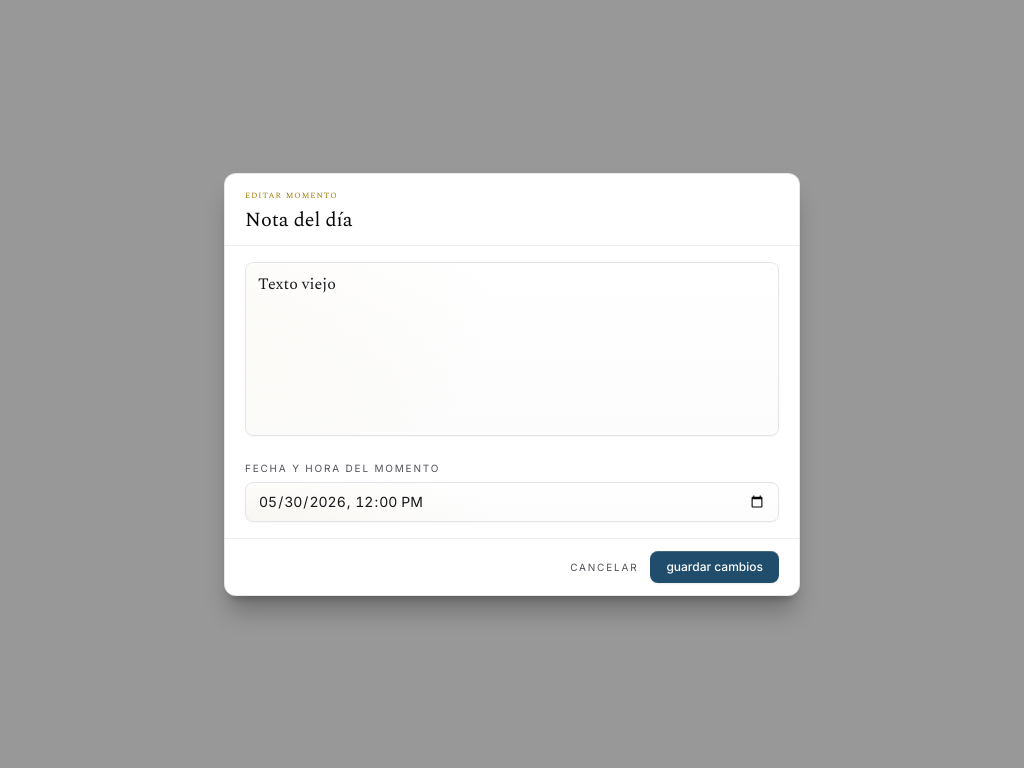
Test case: <NotaEditModal /> › muestra error y no cierra si falla el guardado
The image size is (1024, 768).
What coordinates should you click on to do the following:
click the button "guardar cambios"
I would click on:
 (715, 566)
Its box is [650, 550, 779, 582].
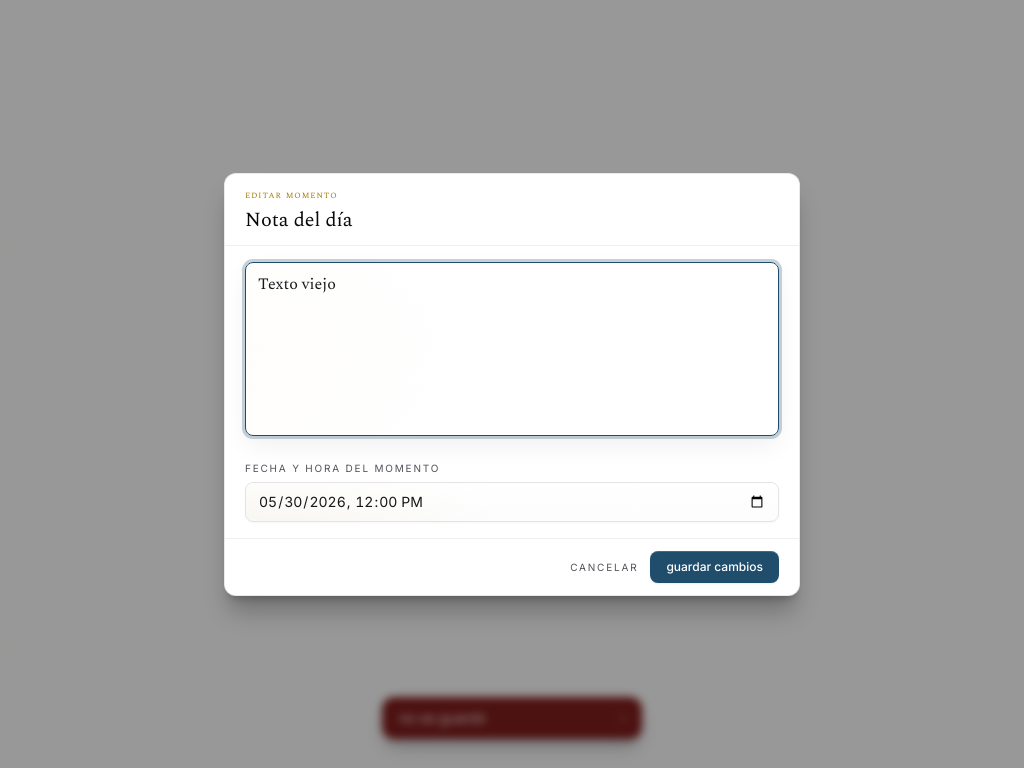
Result: the text "no se guardó" is shown at [399, 709, 486, 726]
